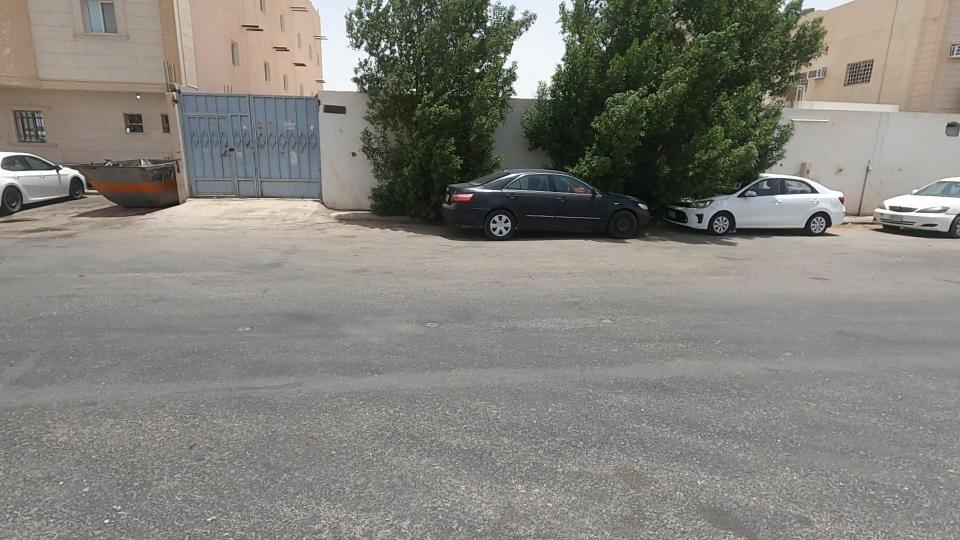GARBAGE: (54, 134, 205, 195)
